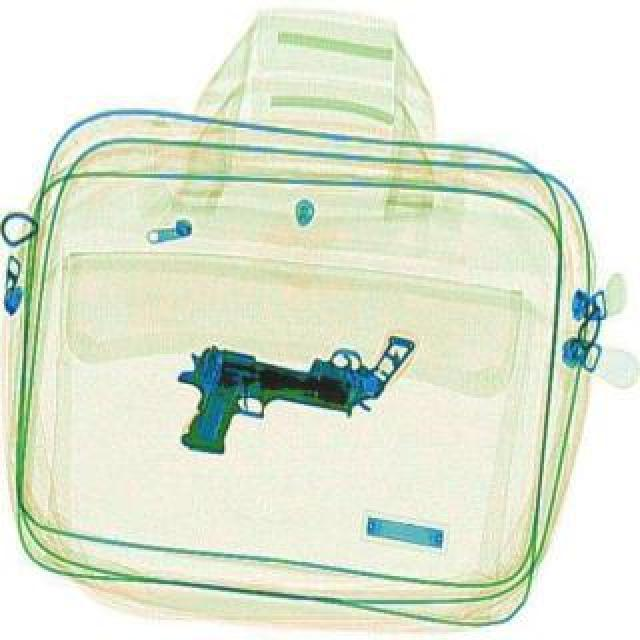gun: (158, 336, 362, 476), (214, 304, 414, 422)
